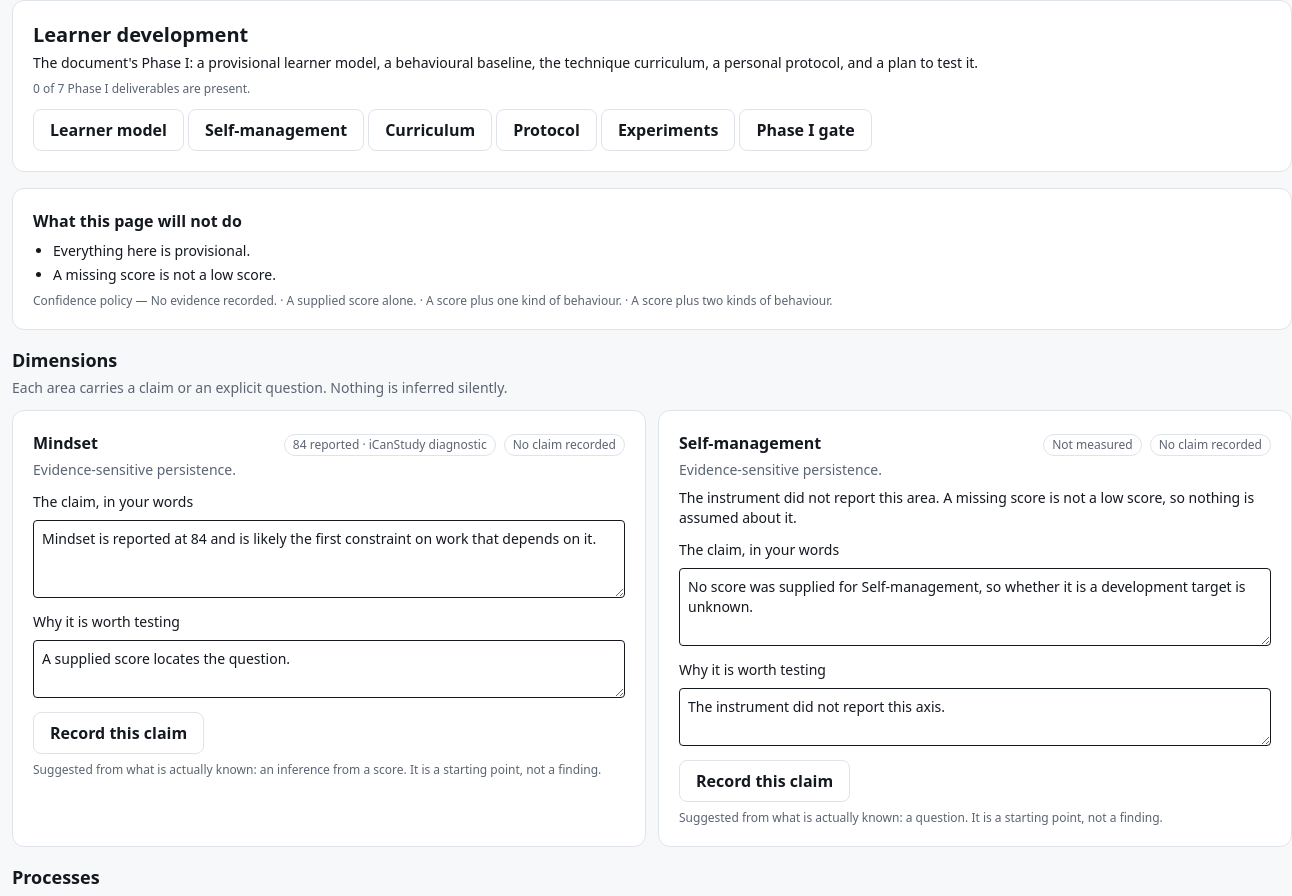
it: the baseline panel › shows prose and states that no score exists
Click the button "Self-management" at point(276, 130), box [188,109,364,151]
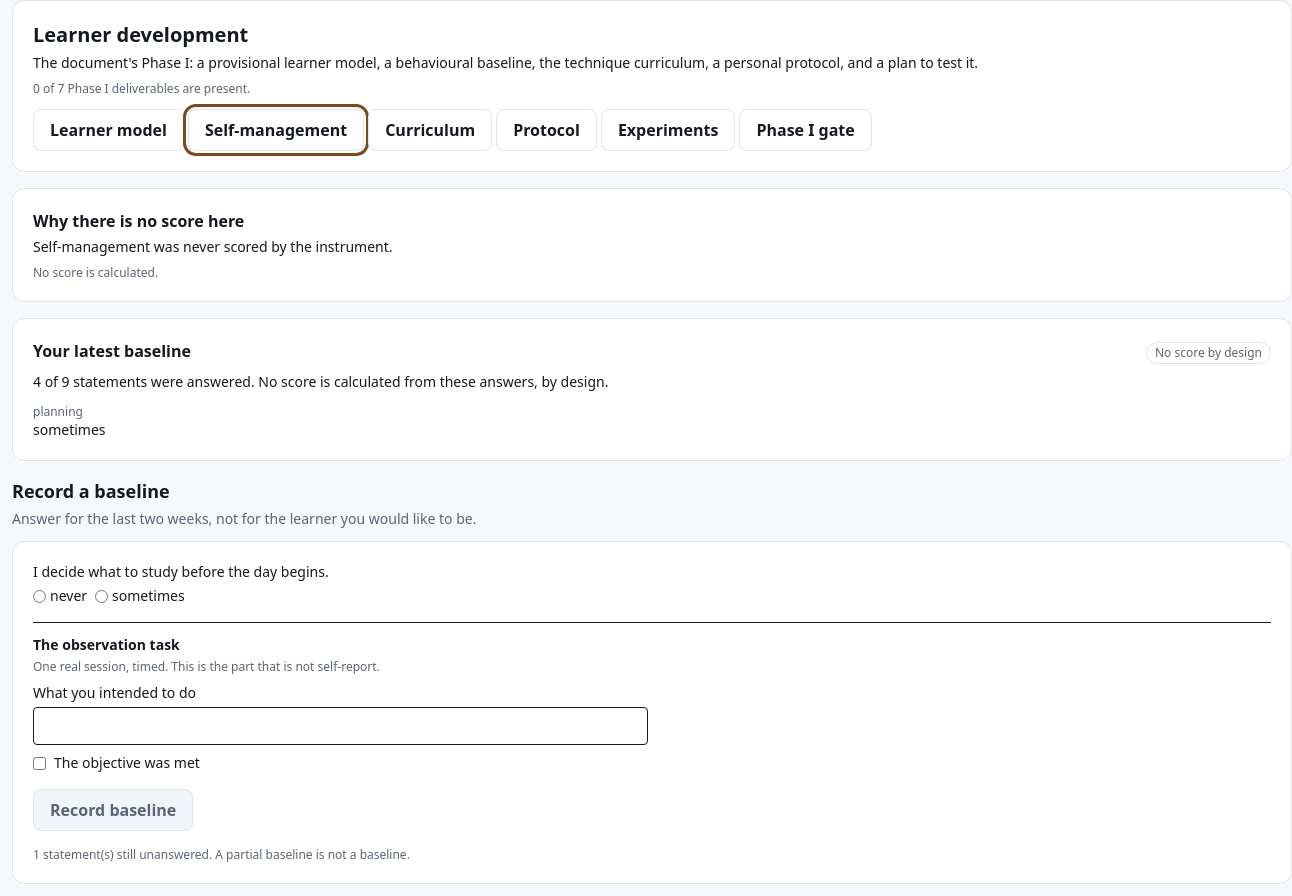
Result: the text with test id "baseline-summary" shows "No score is calculated" at [33,372,608,391]
Result: the text "No score by design" is shown at [1146,342,1271,364]
